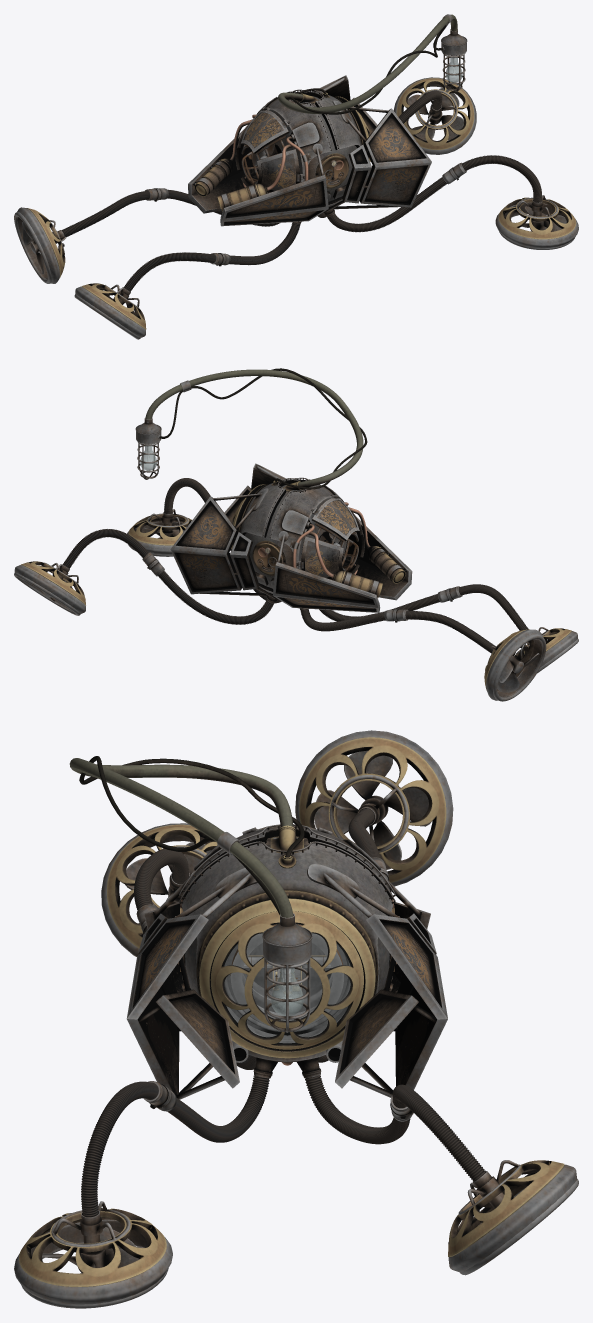
The model's file is steampunk_underwater_explorer.glb.
The picture shows the model from 3 angles, top to bottom: view 1: azimuth 30°, elevation 25°; view 2: azimuth 150°, elevation 25°; view 3: azimuth 270°, elevation 25°; orthographic projection. The views are drawn at different scales.
Visible parts, largest first — view 1: Object_2, Object_4, Object_3; view 2: Object_2, Object_3, Object_4; view 3: Object_2, Object_4, Object_3, Object_6.
Part boxes in pixels (<box>): Object_2: <box>188,14,467,226</box>; Object_4: <box>24,77,578,252</box>; Object_3: <box>14,155,541,339</box>; Object_2: <box>135,368,412,612</box>; Object_3: <box>164,478,578,701</box>; Object_4: <box>14,493,522,682</box>; Object_2: <box>69,756,447,1099</box>; Object_4: <box>14,808,578,1308</box>; Object_3: <box>81,730,453,1217</box>; Object_6: <box>271,968,303,1016</box>.
Size of the model in its own units: 43.53 by 20.22 by 23.
5 materials, 4 textured.
